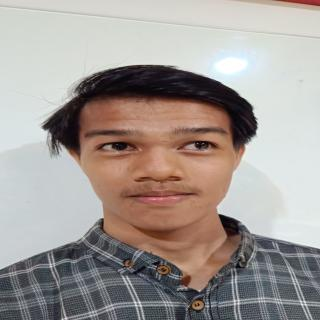Takut: (67, 90, 252, 235)
